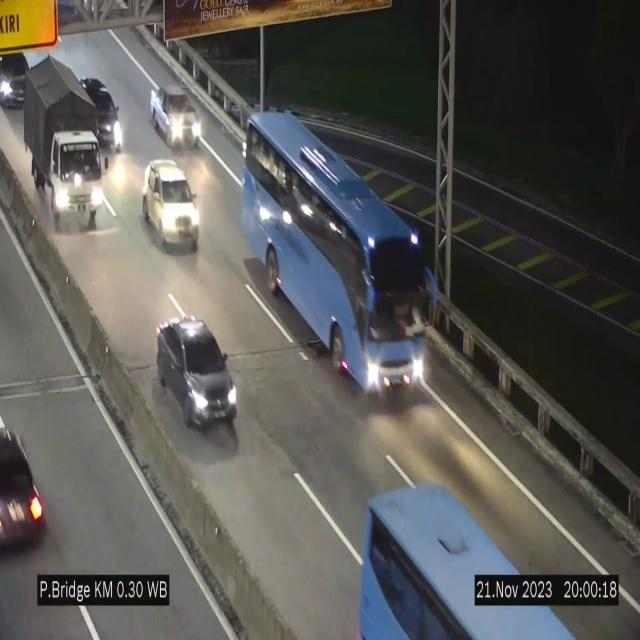Bus: (239, 105, 440, 396), (348, 457, 589, 640)
Car: (0, 400, 56, 563), (158, 317, 238, 428), (143, 160, 200, 252), (78, 70, 124, 152), (150, 86, 202, 150)
Truck: (20, 52, 103, 229)
